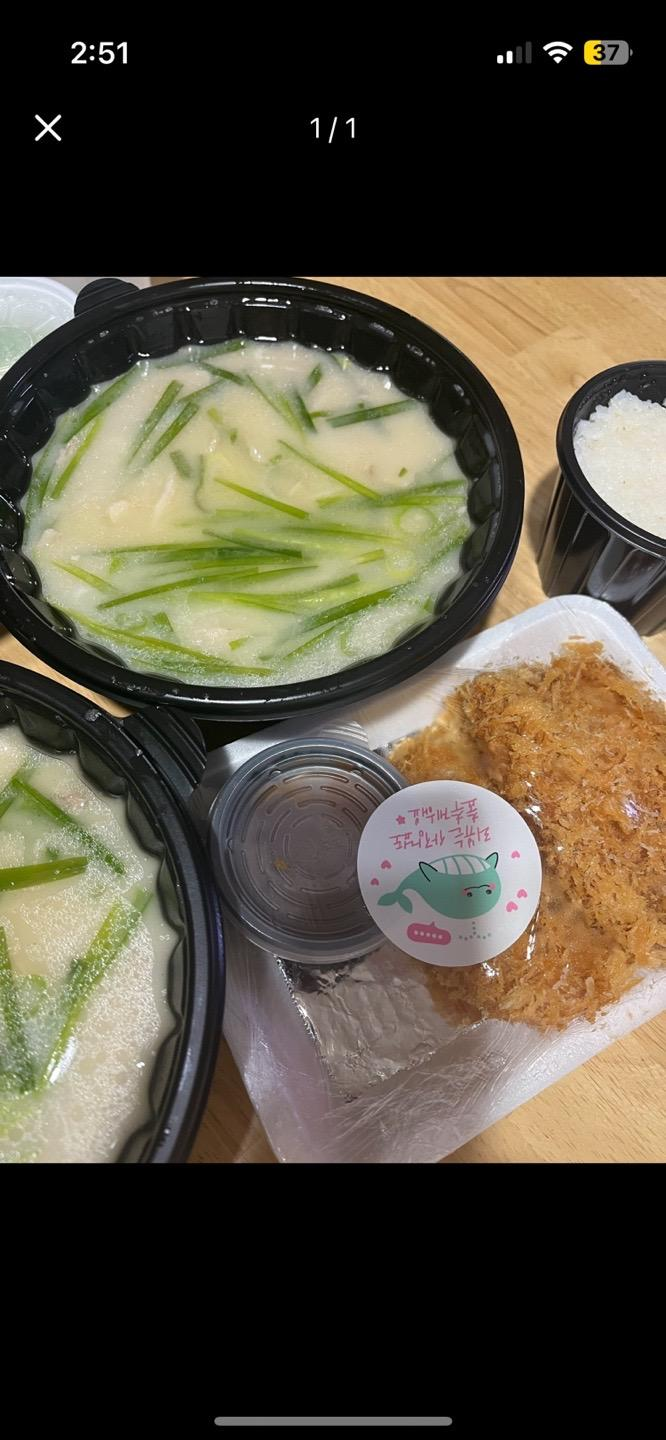Lunch Box: (191, 595, 665, 1162), (0, 278, 524, 721), (0, 662, 224, 1162)
cup: (537, 361, 665, 634)
